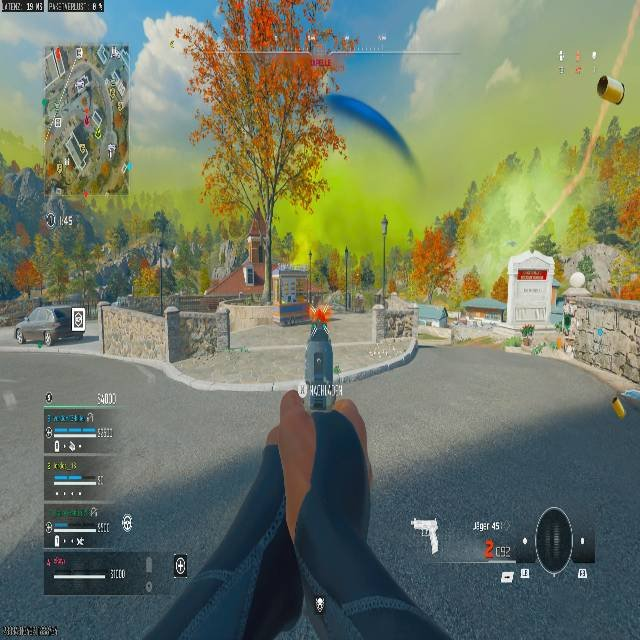player: (306, 311, 336, 382), (355, 293, 364, 311)
